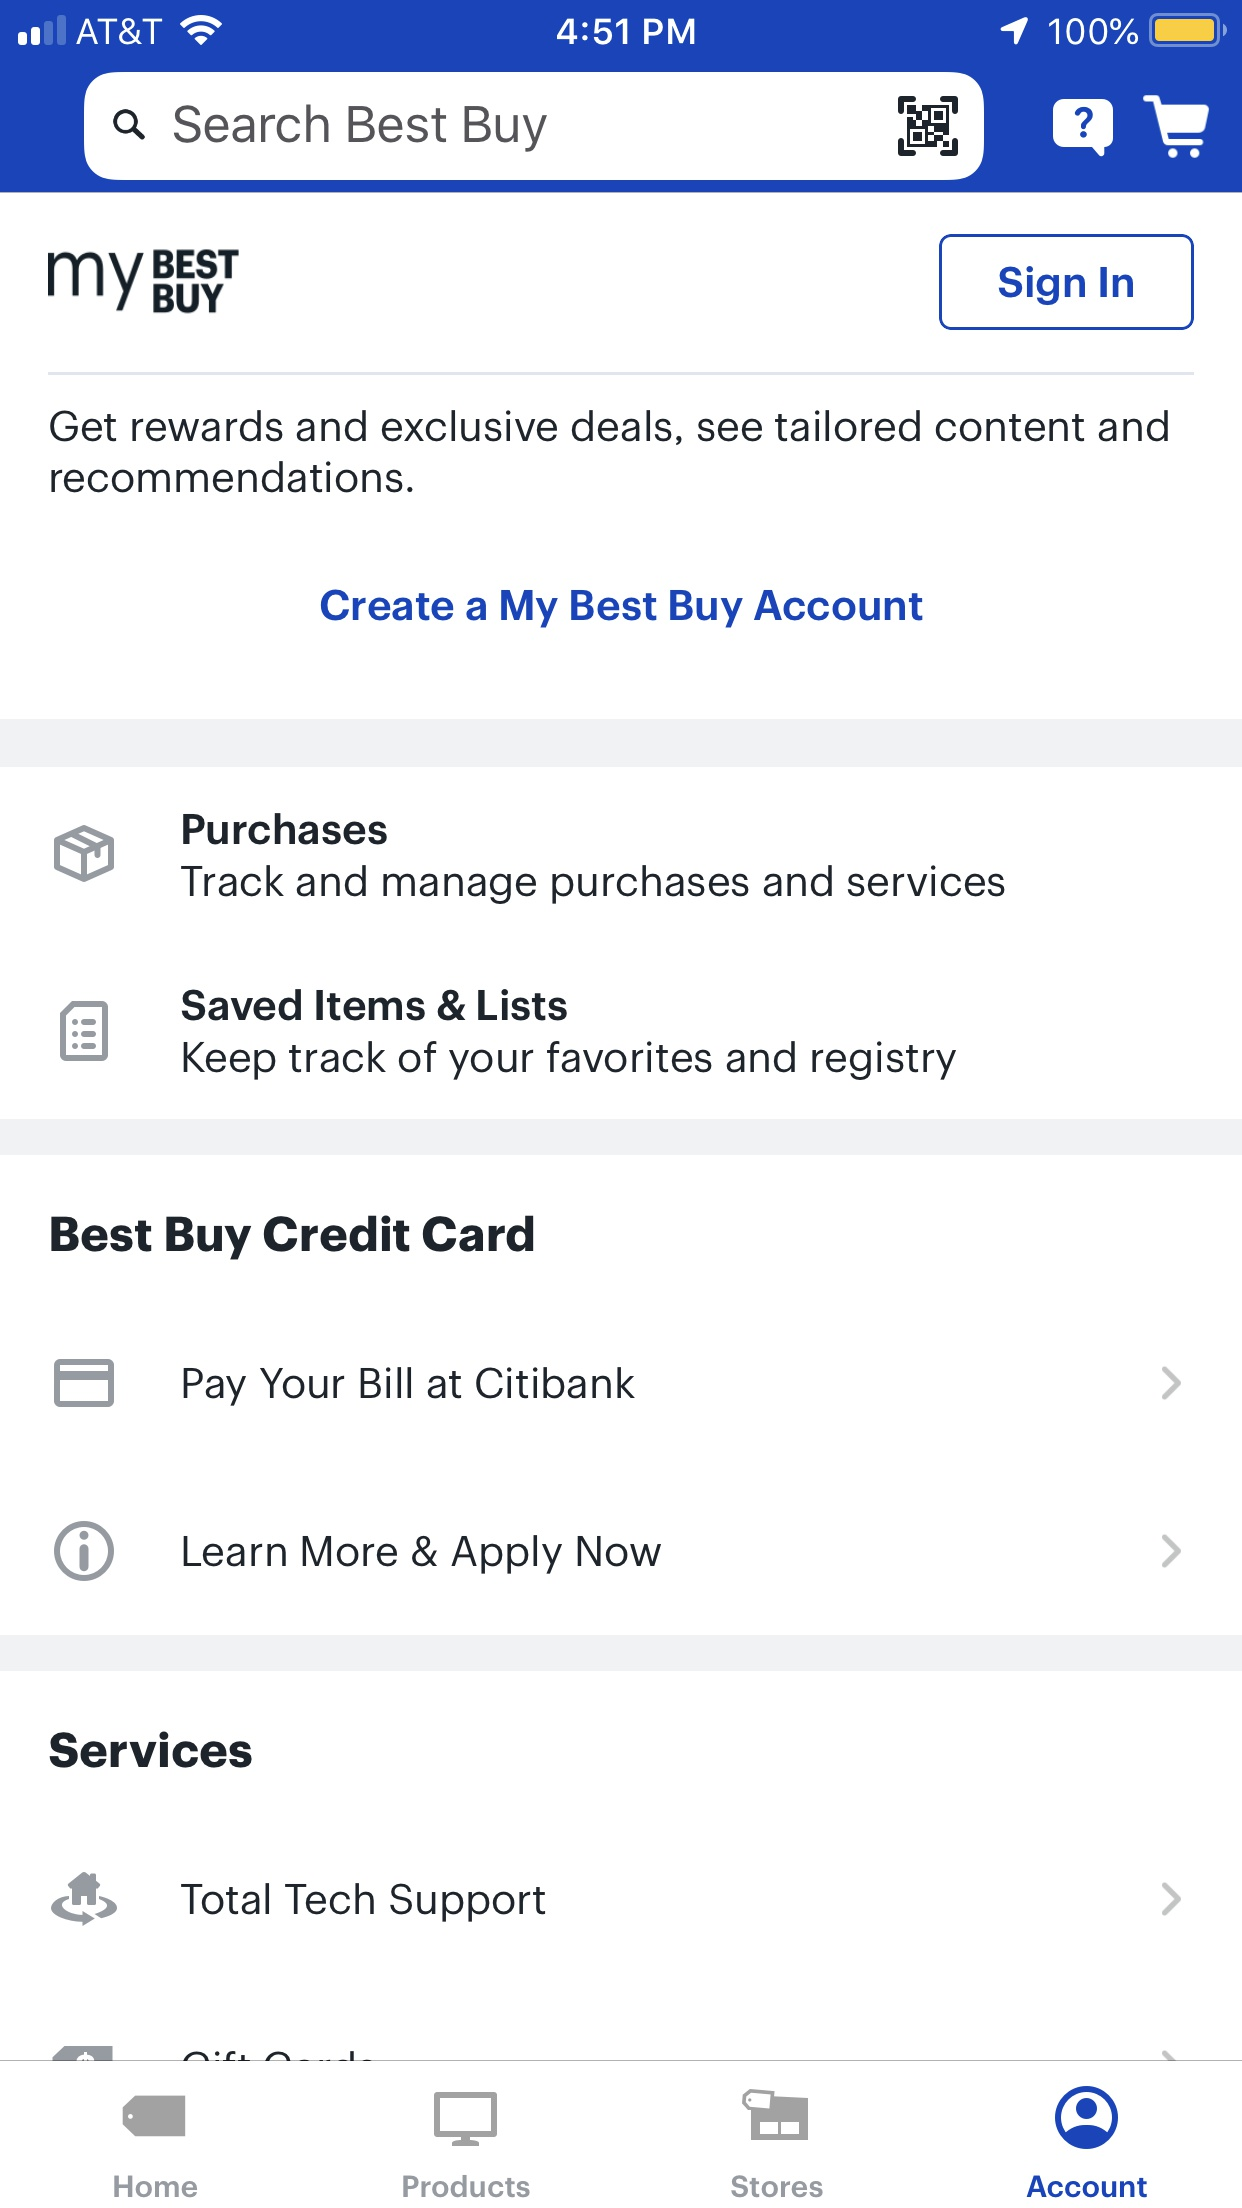EditText: (83, 73, 984, 180)
Icon: (1054, 2085, 1119, 2150), (1143, 96, 1210, 159), (55, 1520, 115, 1582), (52, 1871, 118, 1927), (1052, 99, 1115, 158), (61, 1001, 111, 1062), (55, 1357, 115, 1407), (121, 2094, 187, 2137), (114, 111, 146, 141), (1160, 1365, 1181, 1400), (1162, 1535, 1181, 1570), (1162, 1880, 1181, 1915)
Image: (47, 247, 240, 315), (898, 97, 958, 158), (55, 823, 115, 883), (742, 2088, 808, 2141), (434, 2093, 497, 2147)
Text: (50, 409, 1169, 494), (180, 864, 1005, 905), (183, 1040, 957, 1081), (321, 588, 924, 629), (52, 1215, 535, 1262), (183, 1535, 663, 1576), (174, 105, 549, 155), (183, 1366, 635, 1407), (180, 1882, 546, 1923), (182, 989, 569, 1022), (50, 1730, 253, 1770), (183, 813, 388, 846), (403, 2175, 531, 2199), (1027, 2175, 1148, 2197), (731, 2173, 823, 2197), (114, 2175, 199, 2197)
TextButton: (939, 234, 1195, 332)
UpperTaskBar: (2, 2, 1242, 49)
